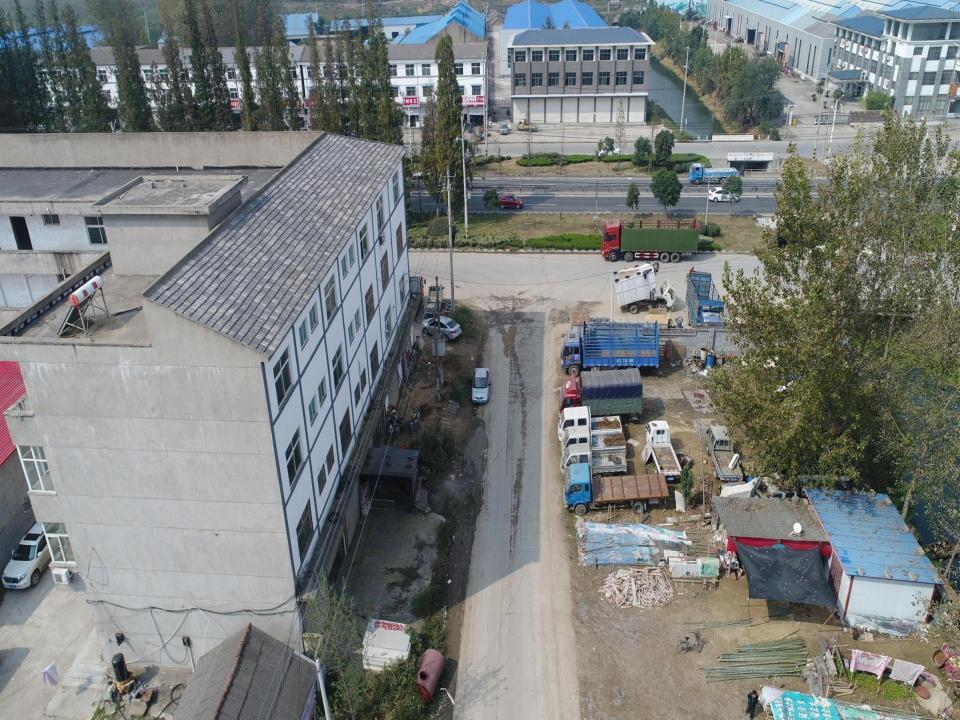car: (1, 502, 66, 590), (421, 317, 461, 341), (472, 368, 491, 403), (707, 187, 739, 204), (500, 192, 522, 209)
truck: (564, 462, 670, 516), (562, 320, 659, 378), (557, 368, 643, 425), (602, 219, 700, 263), (614, 261, 675, 314), (686, 270, 726, 338), (558, 406, 622, 443), (560, 443, 627, 478), (644, 420, 682, 480), (704, 425, 744, 482), (560, 426, 625, 460), (688, 162, 738, 184), (424, 283, 444, 315), (517, 119, 537, 131)
van: (410, 172, 432, 188), (500, 123, 508, 134)
